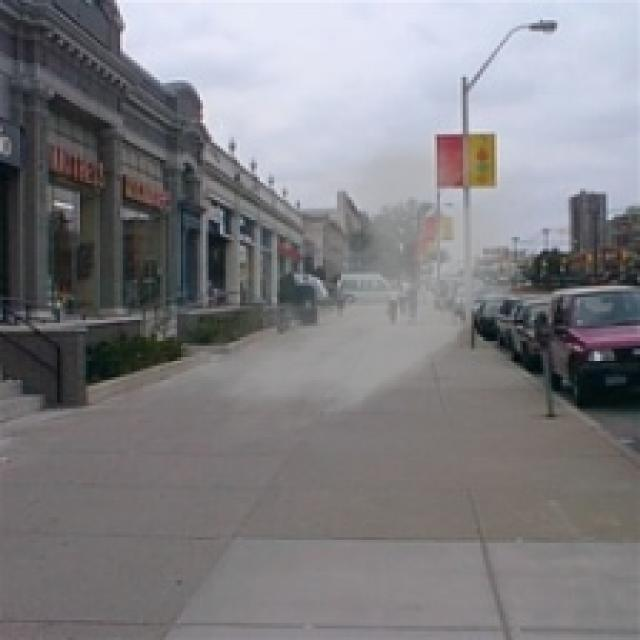Smoke: (135, 109, 554, 452)
